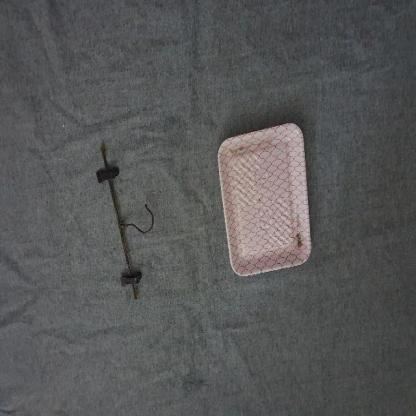Glass Cup: (218, 122, 312, 277), (218, 124, 311, 276)
